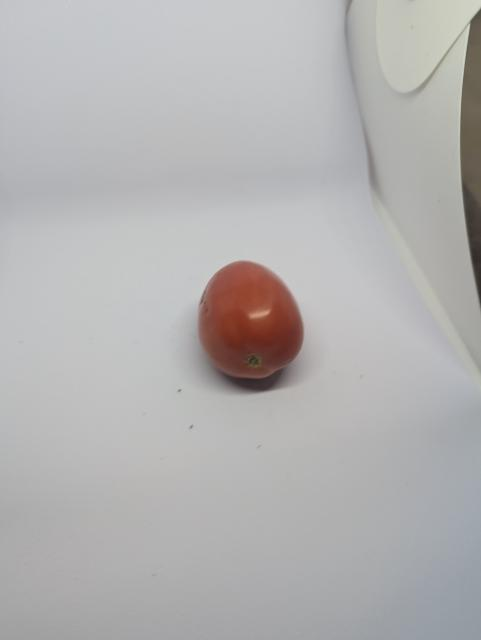red: (196, 259, 309, 384)
